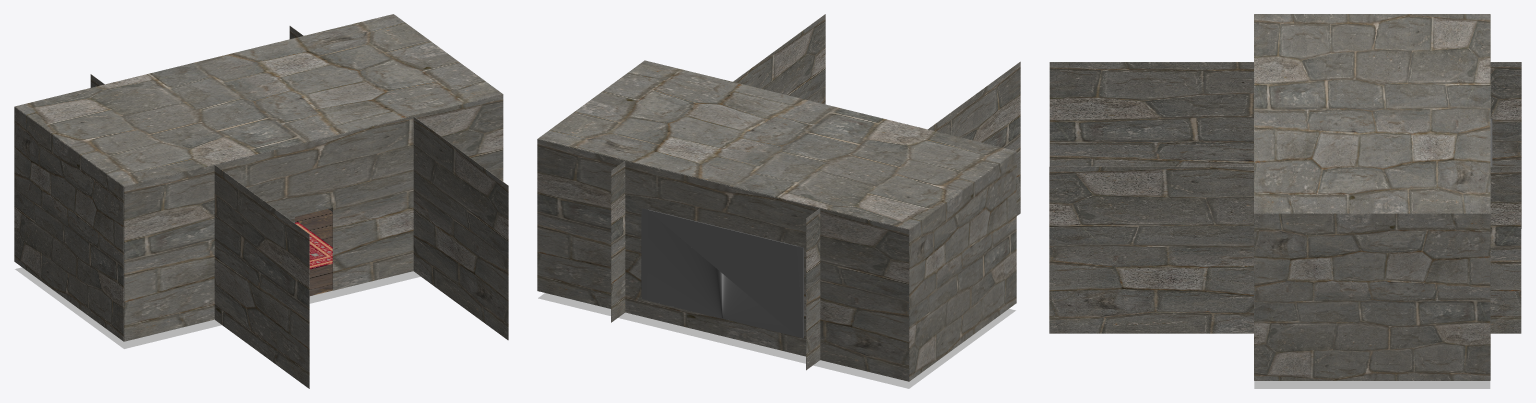
File: livelloPin.fbx
3 views of the same model, side by side, from view 1: azimuth 30°, elevation 25°; view 2: azimuth 150°, elevation 25°; view 3: azimuth 270°, elevation 25° (orthographic). The views are drawn at different scales.
Visible parts, largest first — view 1: object_184, Tetto ufficio, object_184.001, object_184.002, object_194, object_195, Sketchfab Model.002; view 2: object_184, Tetto ufficio, Cube_Frame_0, object_184.002, object_184.001, object_194; view 3: Tetto ufficio, object_184, object_184.001, object_184.002, object_194.
Part boxes in pixels (<box>): object_184: <box>14,94,503,341</box>; Tetto ufficio: <box>15,14,502,186</box>; object_184.001: <box>289,26,508,340</box>; object_184.002: <box>90,74,309,388</box>; object_194: <box>15,267,420,348</box>; object_195: <box>295,209,332,295</box>; Sketchfab Model.002: <box>295,222,332,269</box>; object_184: <box>537,139,1016,381</box>; Tetto ufficio: <box>538,60,1015,229</box>; Cube_Frame_0: <box>641,208,803,338</box>; object_184.002: <box>806,61,1020,370</box>; object_184.001: <box>611,14,825,322</box>; object_194: <box>538,293,1015,388</box>; Tetto ufficio: <box>1254,14,1490,213</box>; object_184: <box>1254,14,1490,380</box>; object_184.001: <box>1049,166,1521,333</box>; object_184.002: <box>1049,62,1521,228</box>; object_194: <box>1254,381,1490,388</box>.
Bounding box in the file's own units: 1002 × 410 × 1000.
